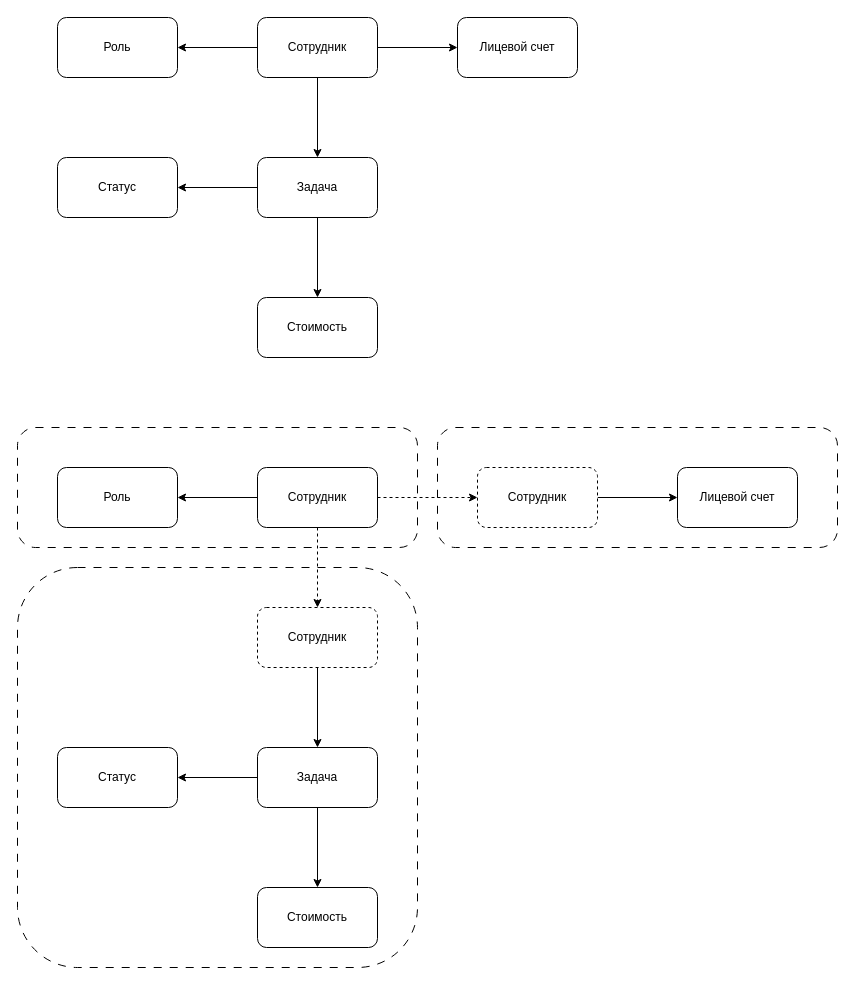
This 855x985 diagram has some shape labels left out. The shapes that lost their labels are listed below. From the top down, each one's box as (x1, y1, x2, y2) in pixels, then its label:
(16, 426, 418, 548): Auth Domain
(436, 426, 838, 548): Account Domain
(16, 566, 418, 968): Task Domain
